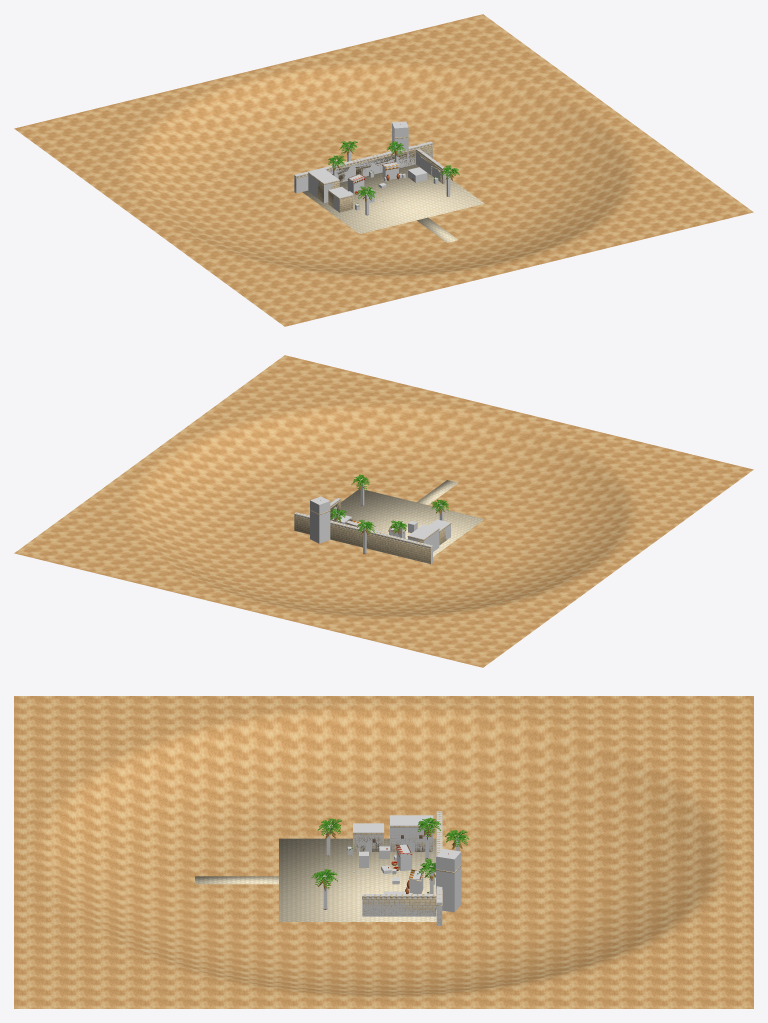
The model's file is market-square.glb.
3 views of the same model, one above another, from view 1: azimuth 30°, elevation 25°; view 2: azimuth 150°, elevation 25°; view 3: azimuth 270°, elevation 25° (orthographic). The views are drawn at different scales.
Visible parts, largest first — view 1: ground, ground_paving, walls, col:back-wall, col:house0; view 2: ground, ground_paving, walls, col:tower; view 3: ground, ground_paving, walls, col:right-wall, col:tower, col:house0, col:house1.
Part boxes in pixels (<box>): ground: <box>14,14,753,326</box>; ground_paving: <box>302,164,484,242</box>; walls: <box>294,132,445,212</box>; col:back-wall: <box>294,141,432,193</box>; col:house0: <box>308,168,339,203</box>; ground: <box>14,355,753,667</box>; ground_paving: <box>331,480,484,556</box>; walls: <box>294,498,451,563</box>; col:tower: <box>310,496,330,543</box>; ground: <box>14,696,753,1008</box>; ground_paving: <box>195,838,436,921</box>; walls: <box>353,812,461,924</box>; col:right-wall: <box>362,894,436,916</box>; col:tower: <box>436,848,461,912</box>; col:house0: <box>390,815,433,852</box>; col:house1: <box>353,823,383,852</box>.
Size of the model in its own units: 240 by 19.6 by 240.
22 materials, 19 textured.
